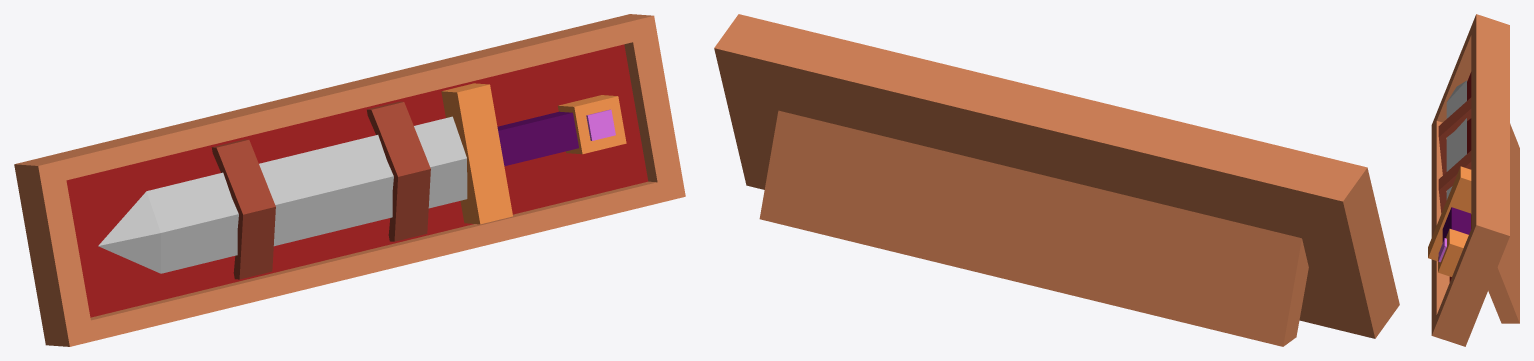
File: Display 01.FBX
3 views of the same model, side by side, from view 1: azimuth 30°, elevation 25°; view 2: azimuth 150°, elevation 25°; view 3: azimuth 270°, elevation 25° (orthographic). The views are drawn at different scales.
Parts seen in each view (by area): view 1: Display 01; view 2: Display 01; view 3: Display 01.
Boxes of the visible parts, x1,y1,x2,y2 form: Display 01: [14, 14, 685, 346]; Display 01: [714, 14, 1399, 346]; Display 01: [1428, 14, 1519, 346].
Size of the model in its own units: 194 by 52.2 by 35.62.
